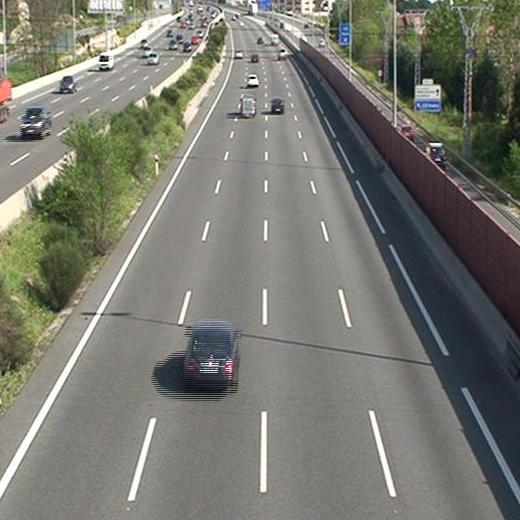car: (182, 323, 240, 387), (271, 98, 284, 113), (246, 74, 258, 87), (277, 49, 287, 60), (233, 49, 242, 59), (251, 53, 259, 63)
